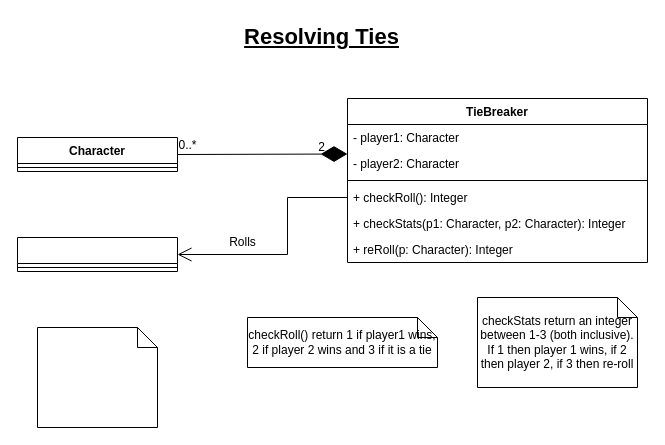
Some shapes in this 665 by 445 pixel diagram are drawn without their labels. Here are the shapes that lost their labels. From the top down, the centre of each, then its label:
At [97,254]: "Die".
At [97,377]: "Character and Die class already has been created in a different UML".
